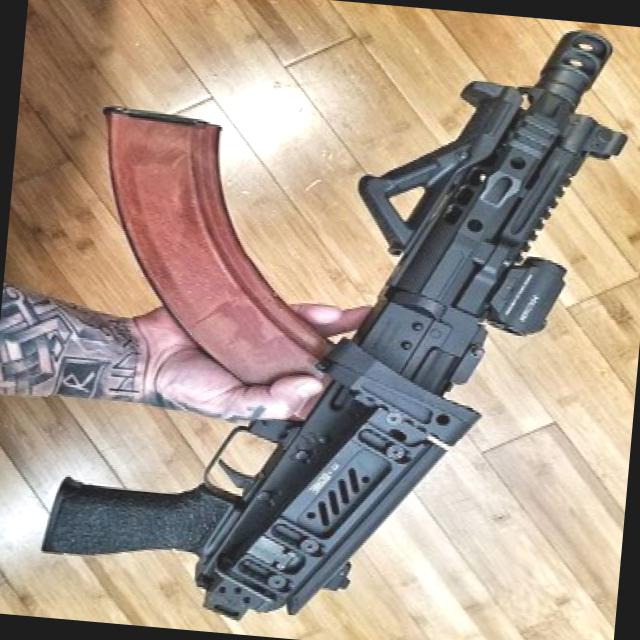long weapon: (36, 0, 639, 639)
